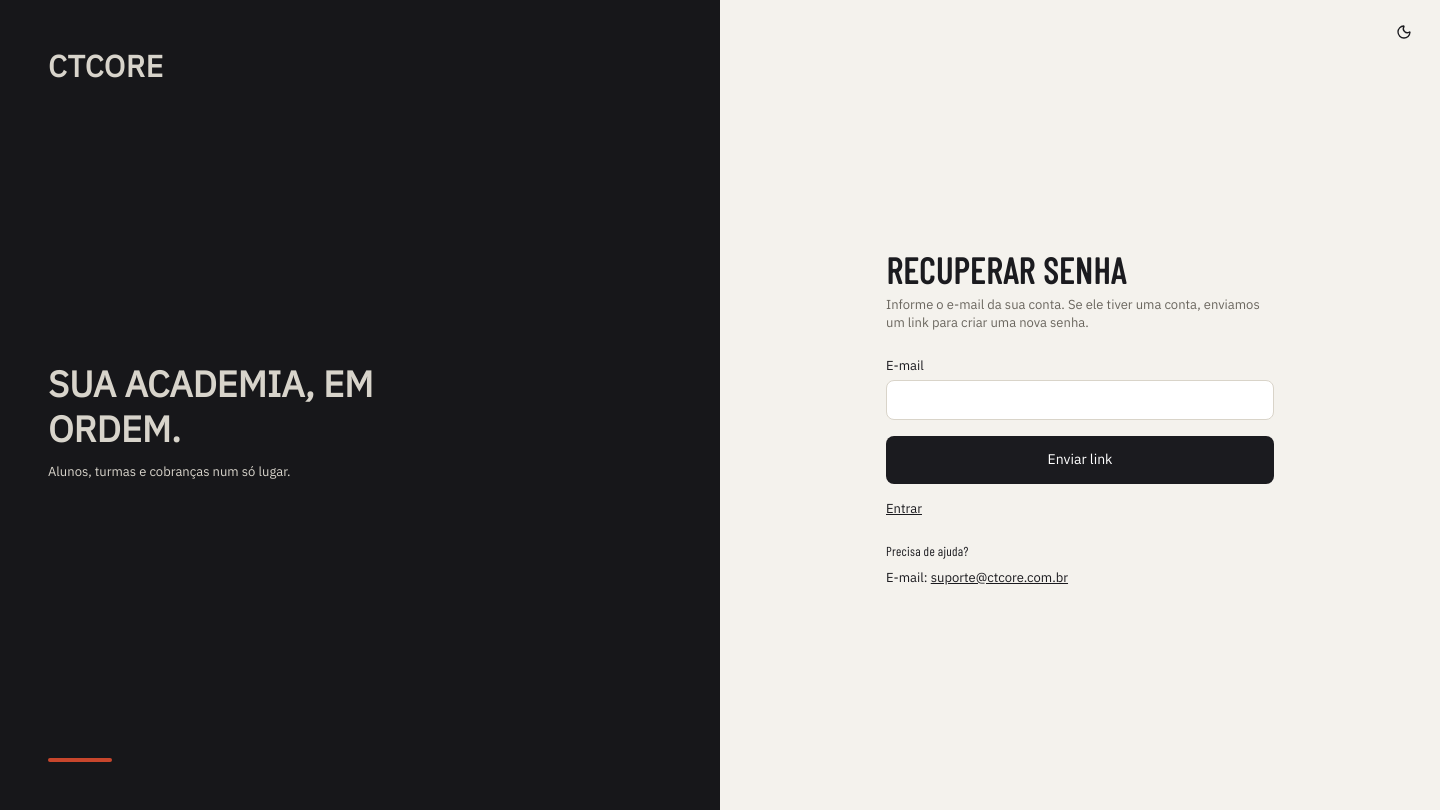
Scenario: ForgotPasswordPage › CA16: 429 avisa a espera e mantém o formulário
Type "limite@exemplo.com" into the field labelled "E-mail" at (1080, 400), box [886,380,1274,420]
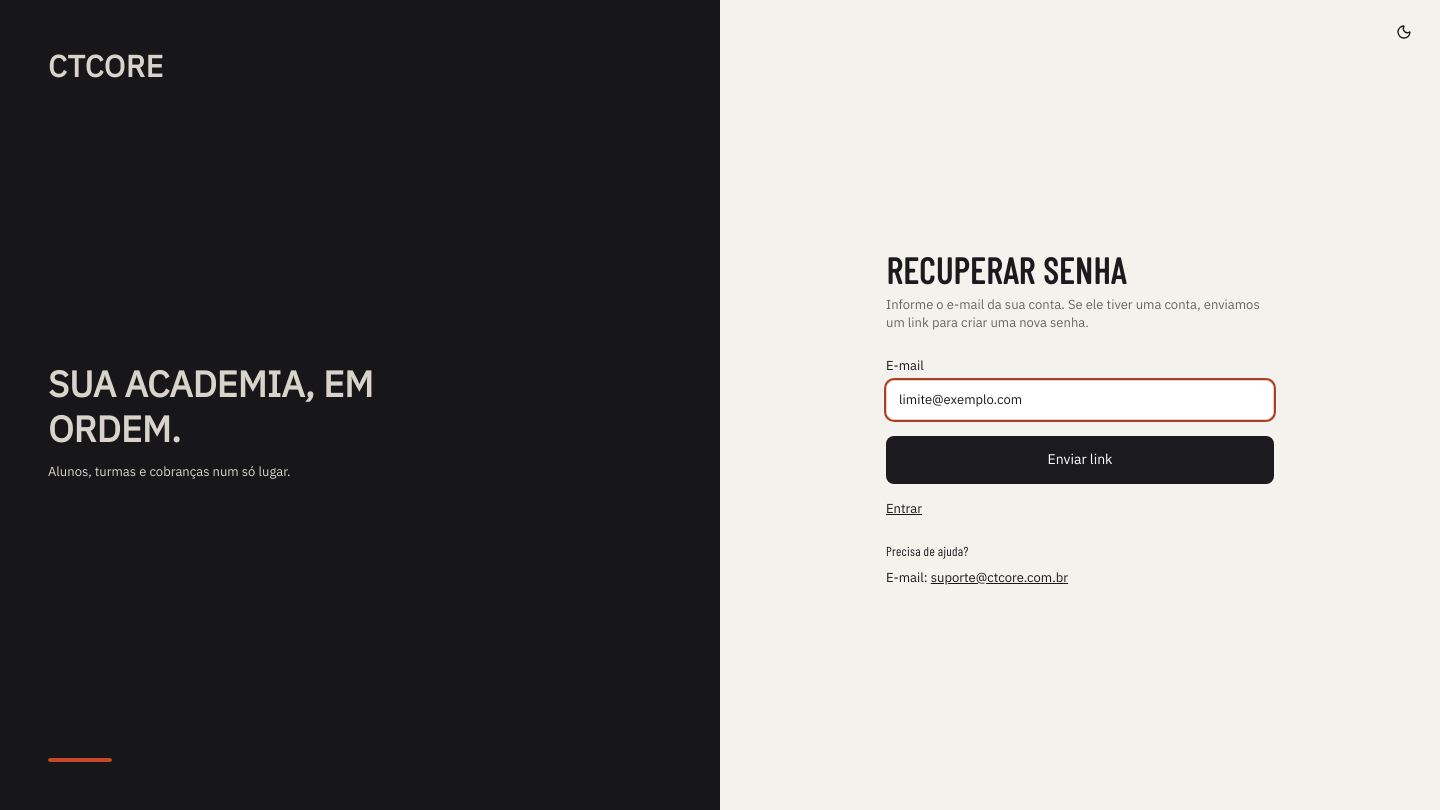
Click the button "Enviar link" at (1080, 460), box [886,436,1274,484]
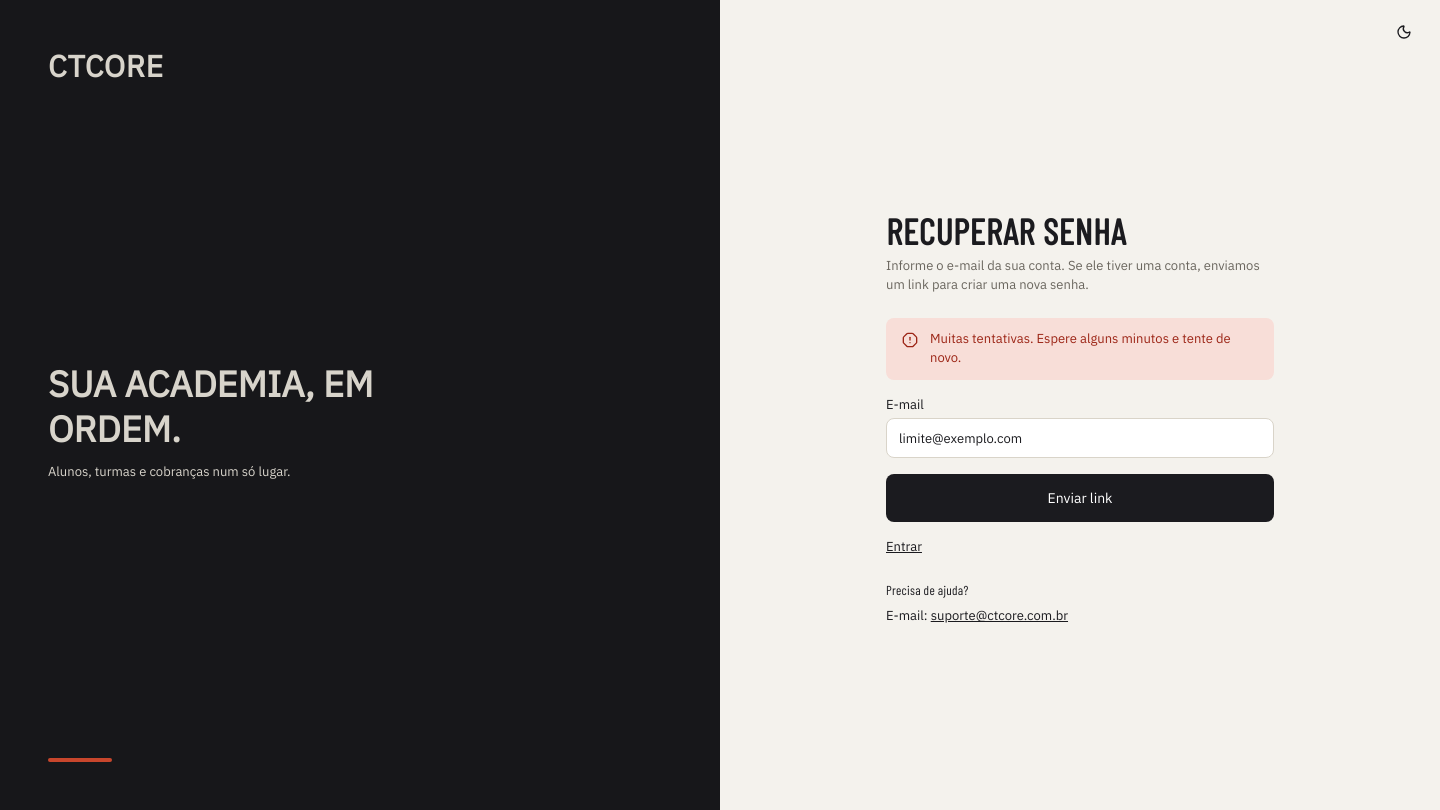
Now the message reads "Muitas tentativas. Espere alguns minutos e tente de novo.", box [930,330,1231,366]
